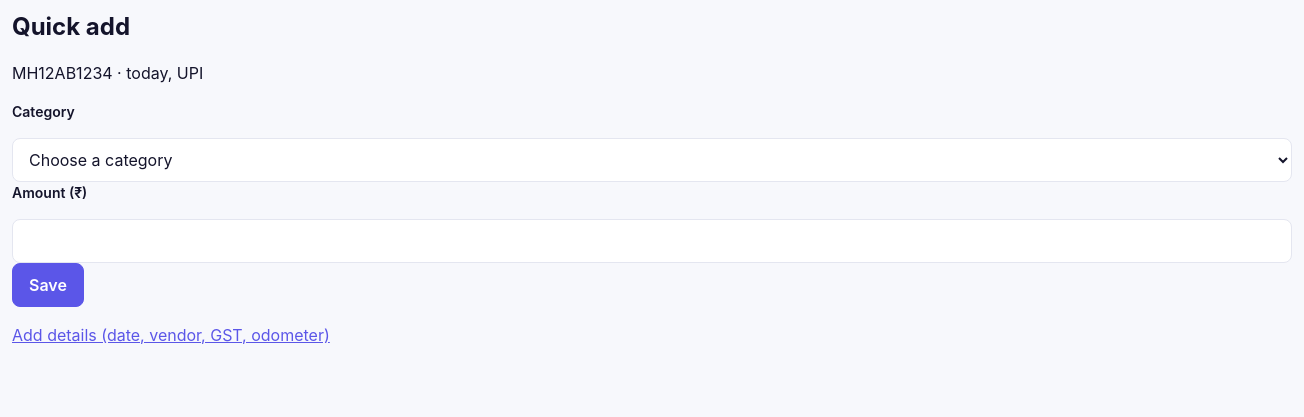
Scenario: Quick add (FR-EXP-09, TC-EXP-10) › saves category + amount in three steps with date today and UPI
The image size is (1304, 417).
Select "Petrol" in the dropdown labelled "Category": (652,160) [12,138,1292,182]
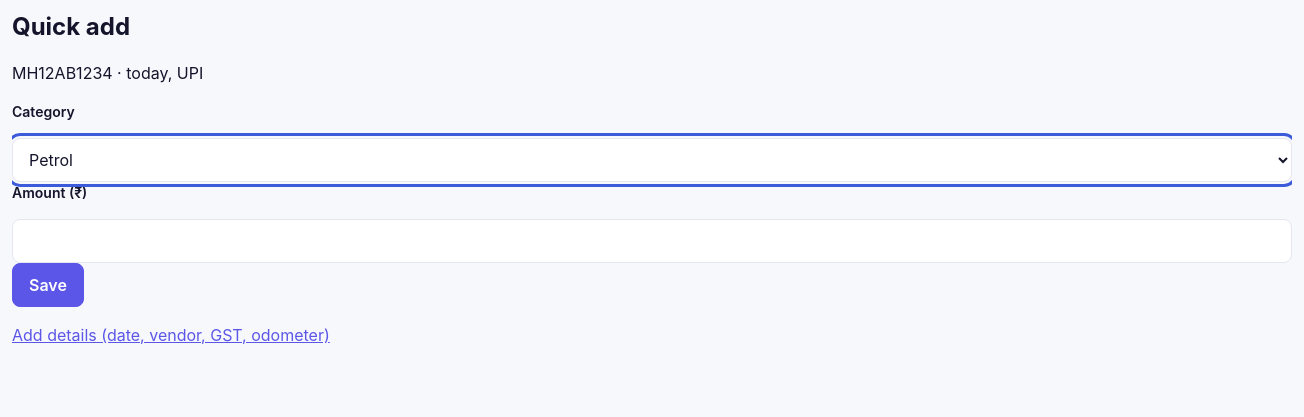
In the field labelled "Amount (₹)": (652,241) [12,219,1292,263], type "3000"
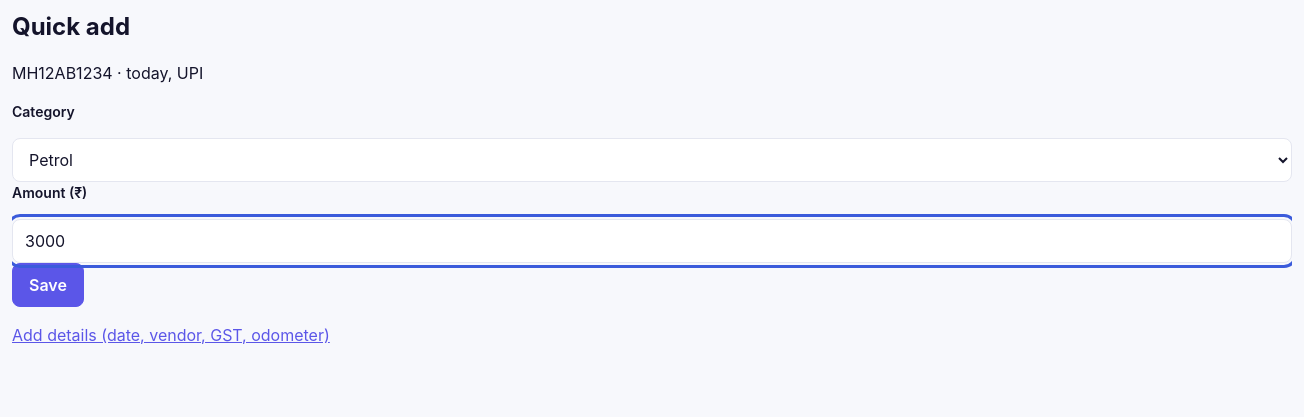
Click the button "Save": (48,285) [12,263,84,307]
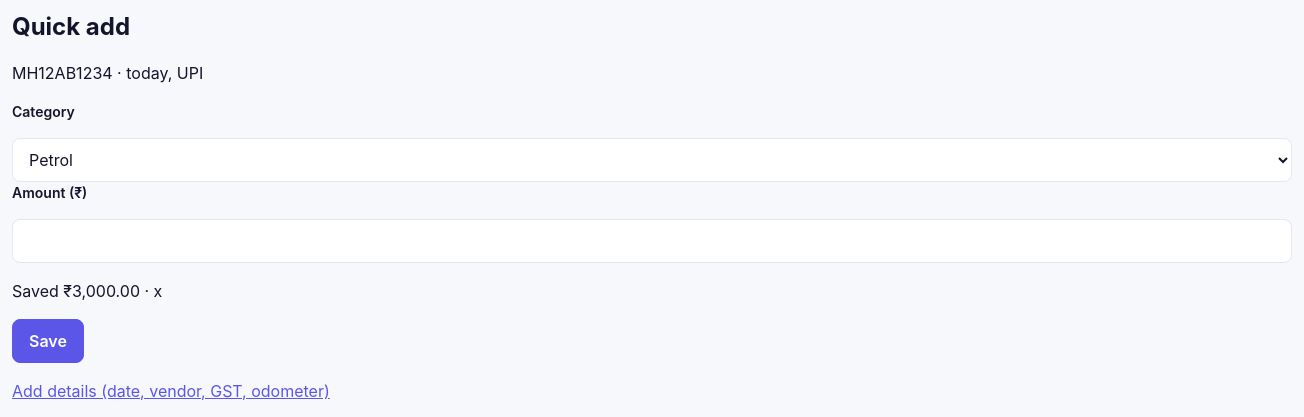
Expected: the text "Saved ₹3,000.00 · x" is shown, [12,281,162,301]
Expected: the field labelled "Amount (₹)" is empty, [12,219,1292,263]
